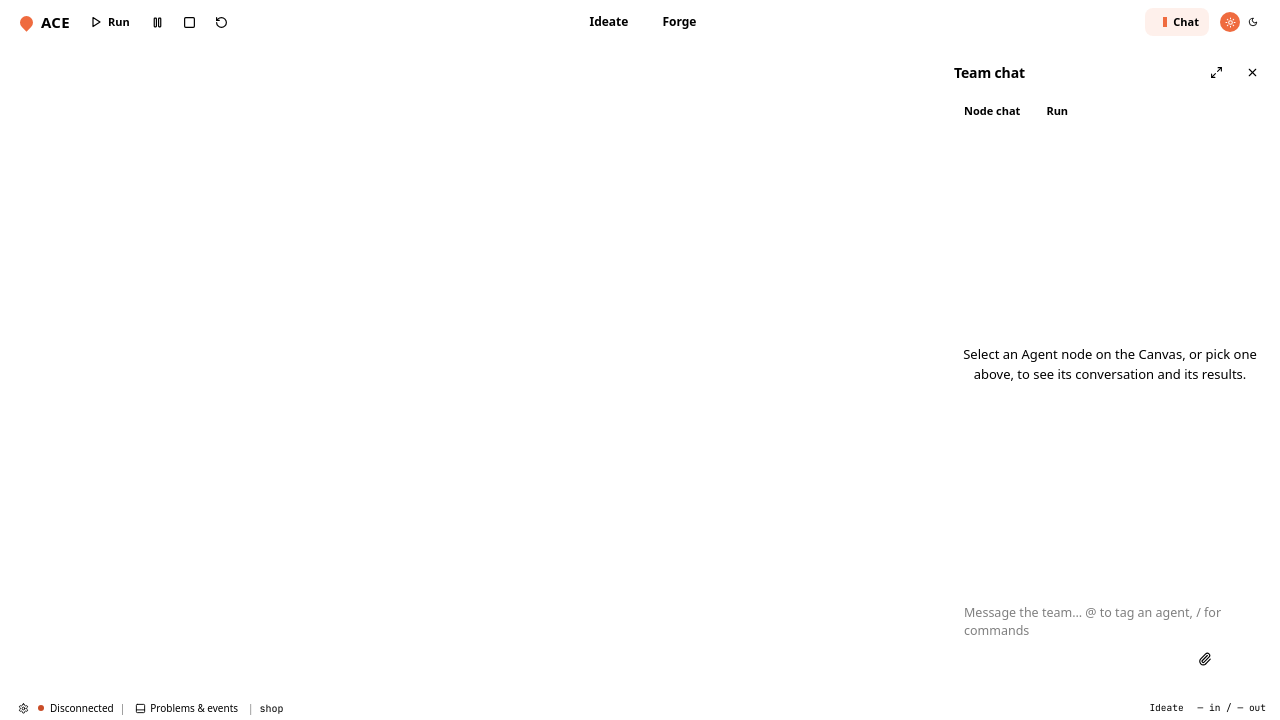
D330 the workspace header › Chat and Team › Chat toggles the chat column in Ideate
Step 1. Click the button with test id "chat-toggle" → (1177, 22), box [1145,8,1209,36]
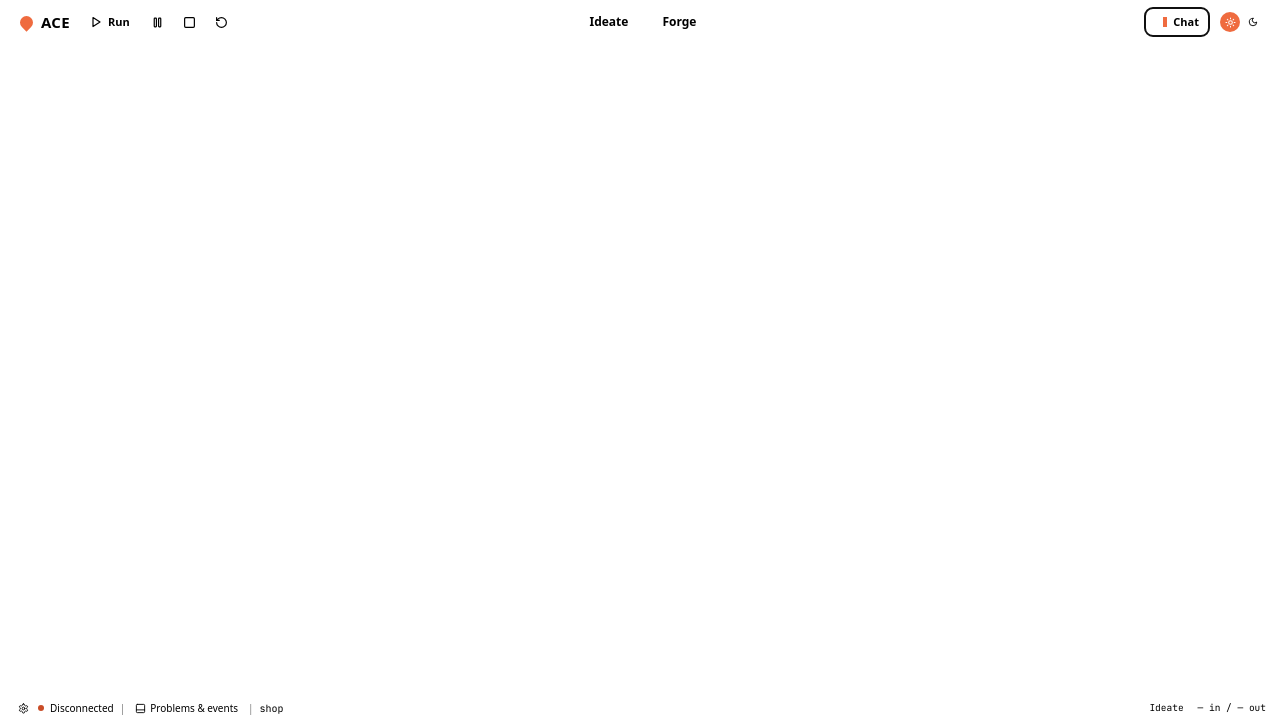
Expected: the element with test id "chat-column" is gone
Step 2. Click the button with test id "chat-toggle" → (1177, 22), box [1145,8,1209,36]
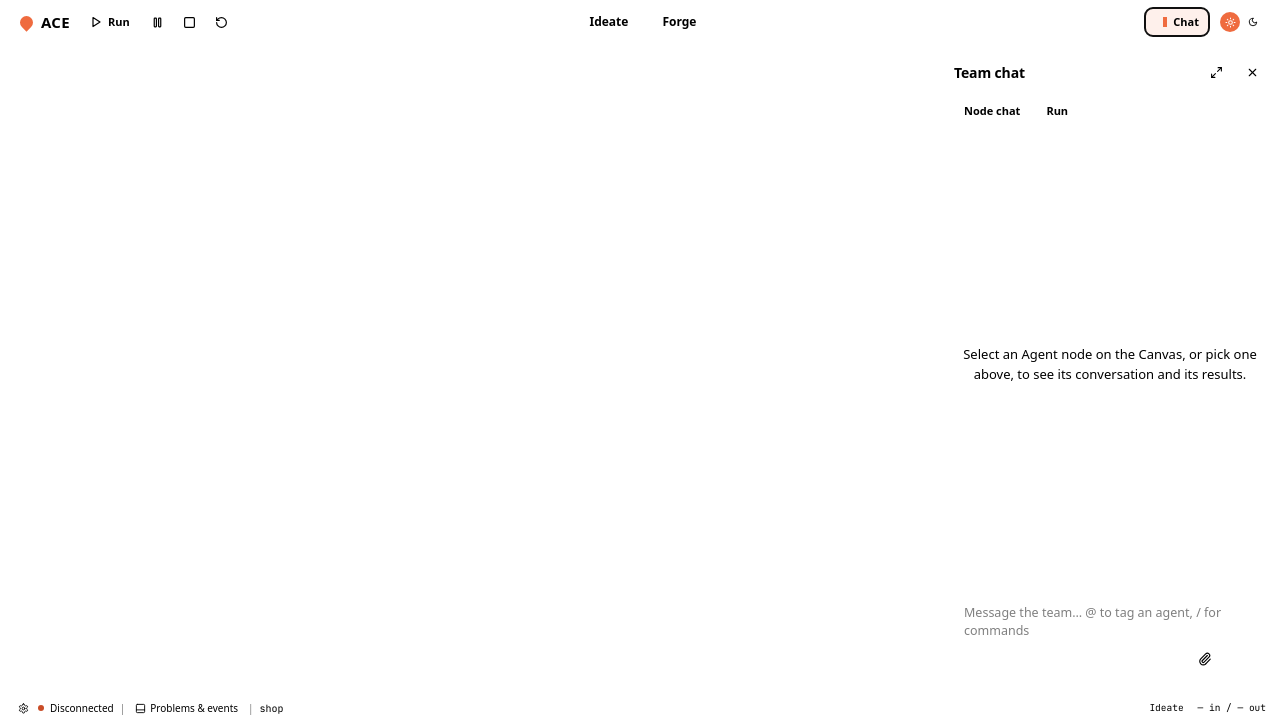
Expected: the element with test id "chat-column" is shown, [954,58,1266,126]
